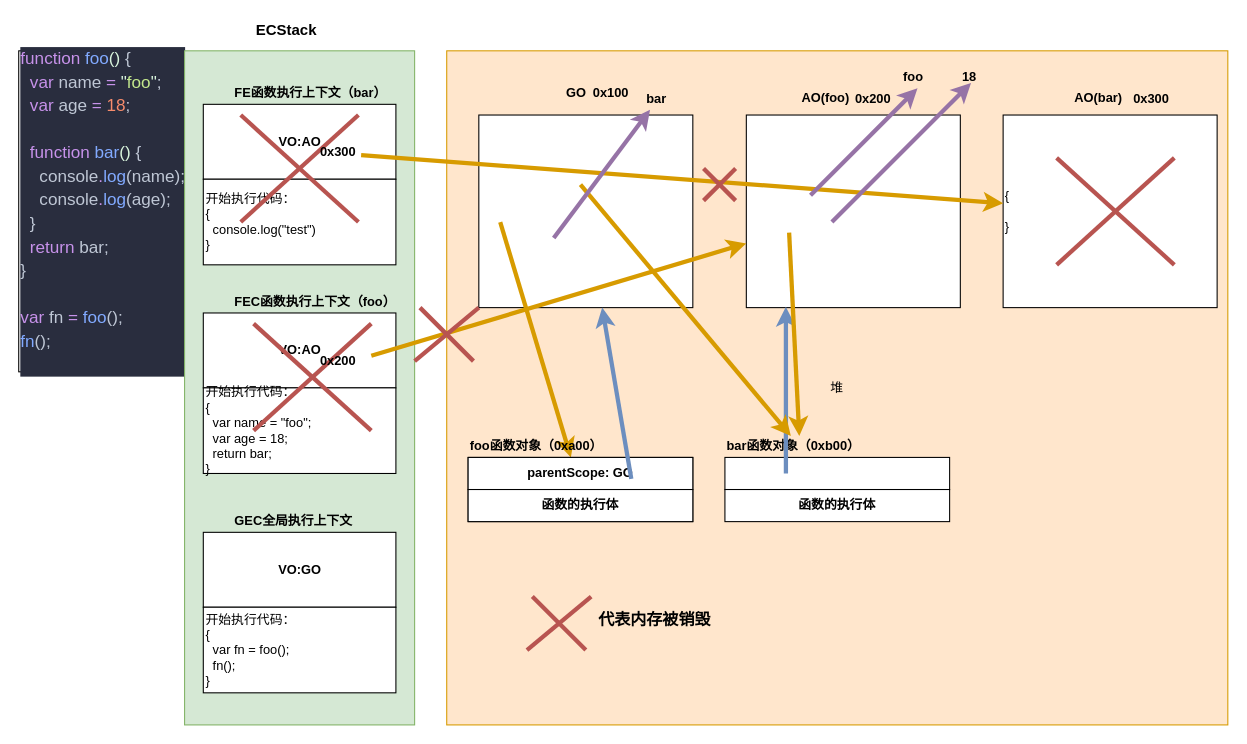
This 1247x744 diagram has some shape labels left out. The centre of each missing label's shape, as x and y in pixels:
"parentScope: AO(foo)" goes at (x=837, y=473).
"{ name: undefined, age: undefined, bar: 0xb00 }" goes at (x=852, y=211).
"{ String, window, foo: 0xa00, fn: undefined, }" goes at (x=585, y=211).
